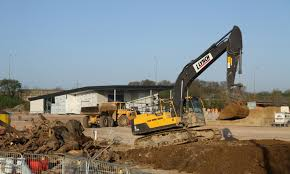excavator: (130, 25, 250, 148)
